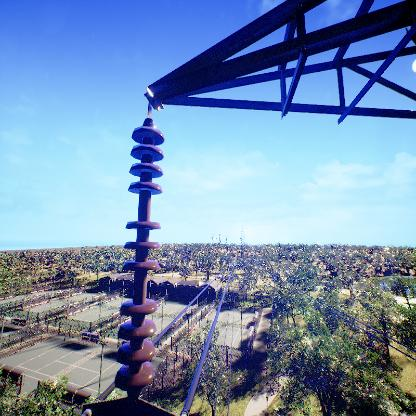insulator: (112, 124, 169, 395)
